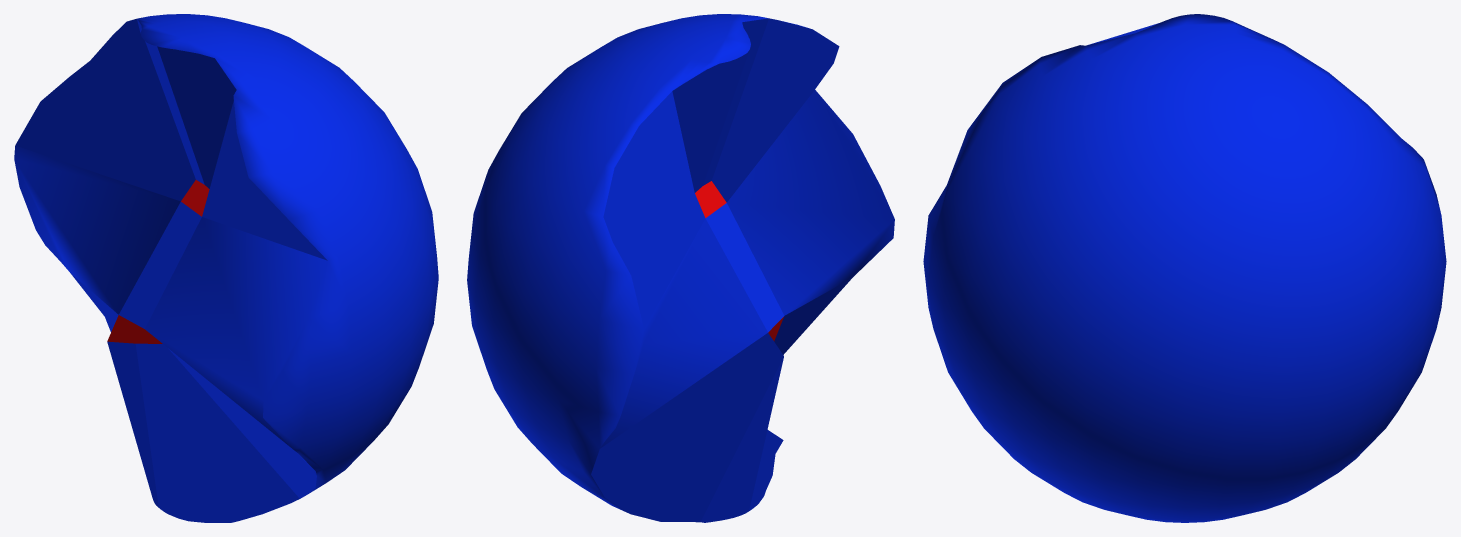
File: Orbe_Triangle_F2.fbx
3 renders of one model, left to right at view 1: azimuth 30°, elevation 25°; view 2: azimuth 150°, elevation 25°; view 3: azimuth 270°, elevation 25°, orthographic.
Visible parts, largest first — view 1: Orbe_Triangle_F2; view 2: Orbe_Triangle_F2; view 3: Orbe_Triangle_F2.
Boxes of the visible parts, box(x1,y1,x2,y2) form: Orbe_Triangle_F2: box(14, 14, 438, 522); Orbe_Triangle_F2: box(467, 14, 894, 522); Orbe_Triangle_F2: box(923, 14, 1446, 522).
Size of the model in its own units: 130 by 200 by 200.
